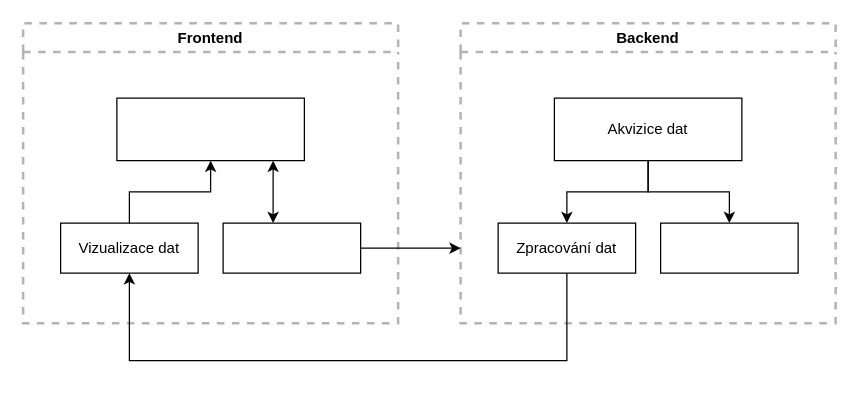
This 858x393 diagram has some shape labels left out. The shapes that lost their labels are listed below. From the top down, each one's centre as x and y in pixels, then its label:
At point (210, 129): "Hlavní okno".
At point (291, 247): "Nastavení".
At point (728, 247): "Ukládání dat".
